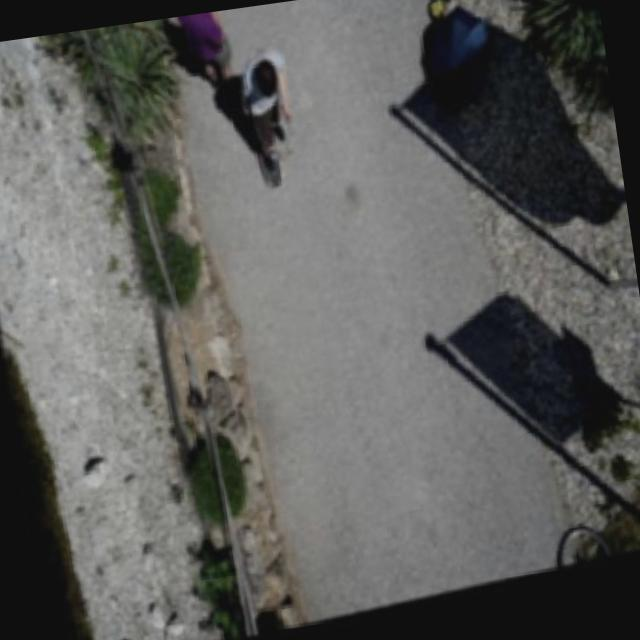Person: (232, 36, 310, 178), (159, 10, 234, 100)
